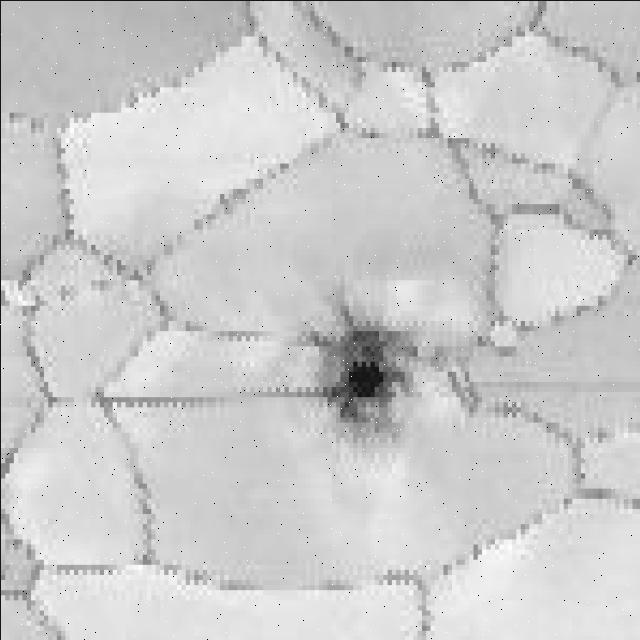good_void: (311, 306, 423, 431)
